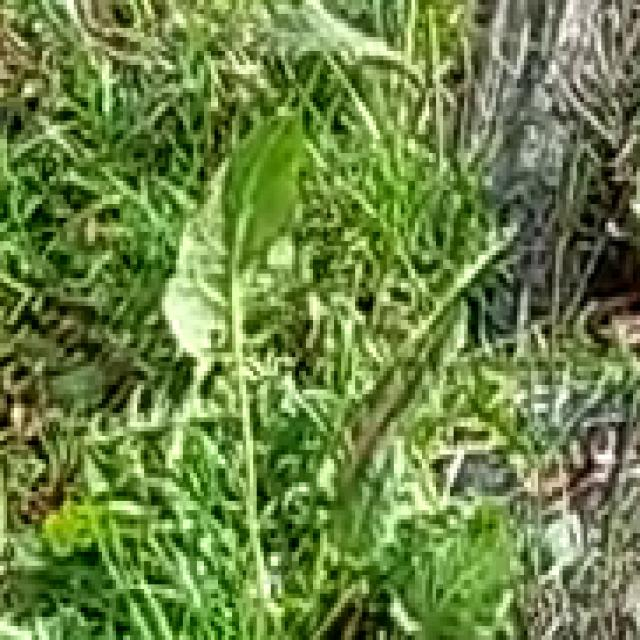organic waste: (116, 84, 506, 626)
